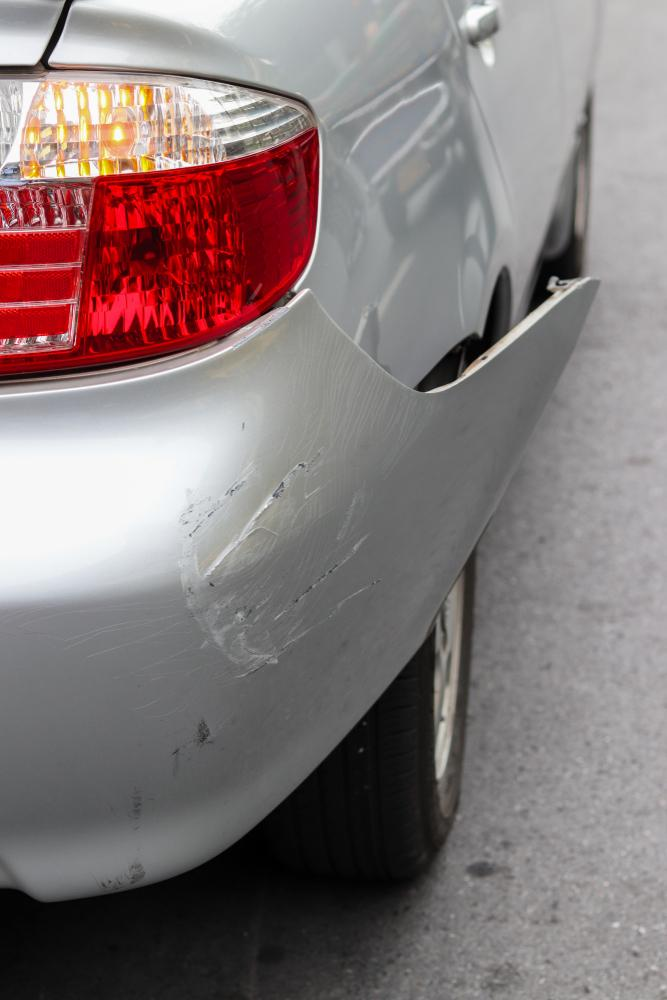scratch: (80, 353, 421, 892)
